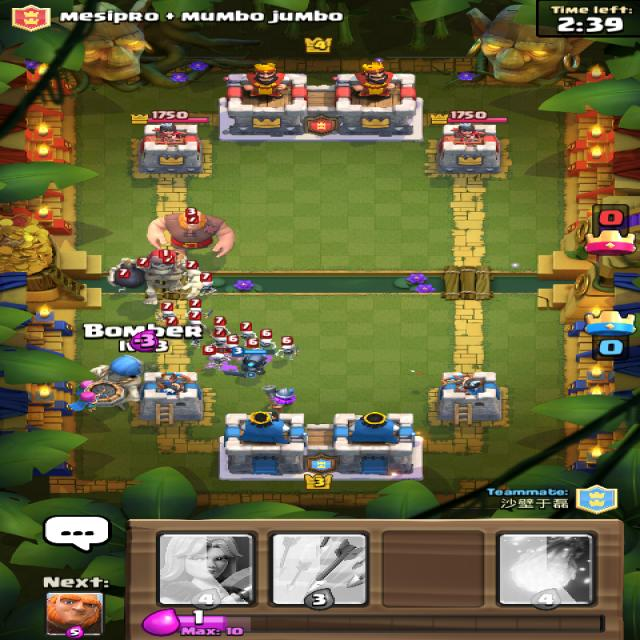Enemy-Giant: (144, 205, 237, 258)
Enemy-GiantSkeleton: (105, 249, 204, 304)
Enemy-Skeleton: (194, 349, 227, 377), (272, 334, 297, 362), (180, 310, 203, 340), (252, 328, 277, 355), (231, 320, 256, 347), (204, 326, 228, 354), (181, 298, 212, 318), (196, 270, 215, 298), (152, 302, 173, 321)
Player-Archer: (65, 392, 91, 414), (74, 378, 90, 398)
Player-GiantSkeleton: (87, 353, 144, 409)
Player-MiniPEKKA: (222, 352, 266, 379)
Player-Musketeer: (259, 383, 296, 411)
